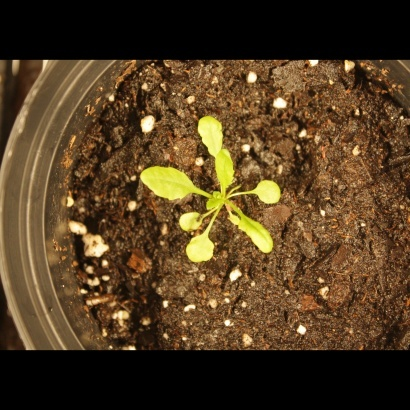leaf: (228, 203, 280, 255), (134, 165, 199, 200), (182, 232, 220, 270), (193, 114, 226, 155), (254, 176, 292, 211), (213, 146, 237, 193), (175, 207, 210, 234), (206, 189, 229, 212)
